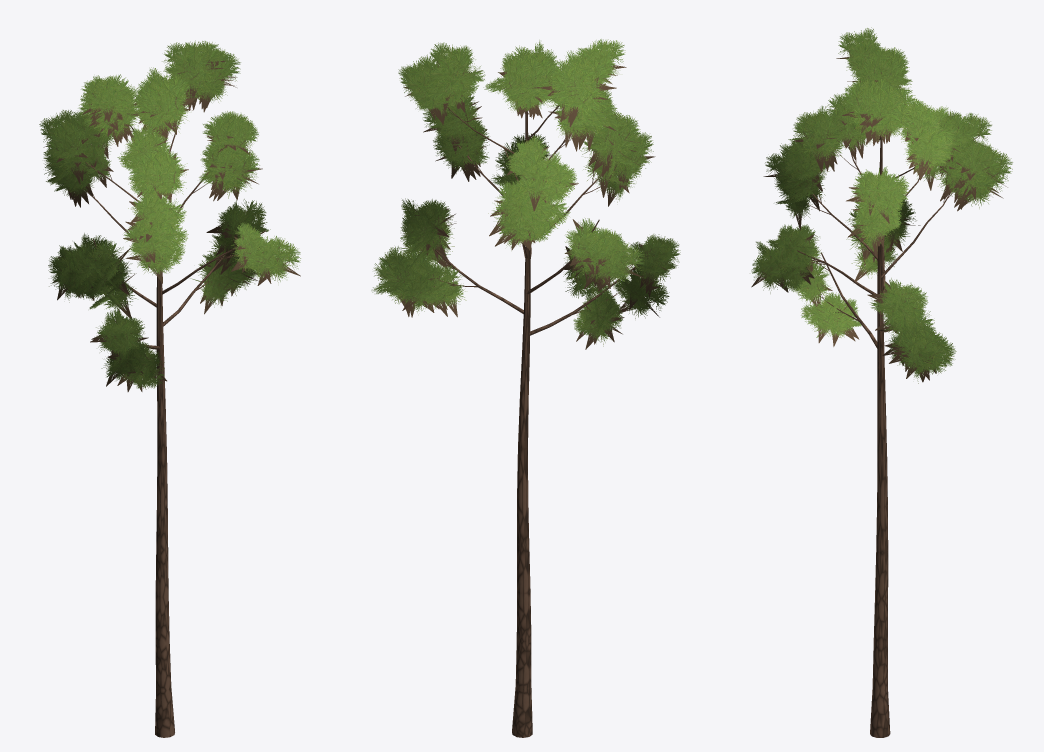
File: veg_longleaf_pine_a.fbx
3 renders of one model, left to right at view 1: azimuth 30°, elevation 25°; view 2: azimuth 150°, elevation 25°; view 3: azimuth 270°, elevation 25°, orthographic. The views are drawn at different scales.
Visible parts, largest first — view 1: veg_longleaf_pine_a_LOD0; view 2: veg_longleaf_pine_a_LOD0; view 3: veg_longleaf_pine_a_LOD0.
Boxes of the visible parts, <box> form: veg_longleaf_pine_a_LOD0: <box>39,40,300,737</box>; veg_longleaf_pine_a_LOD0: <box>371,39,680,737</box>; veg_longleaf_pine_a_LOD0: <box>751,27,1012,737</box>.
Size of what is drawn, in the model's own units: 12.78 by 31.57 by 12.5.
Materials: 2 (2 with a texture image).
